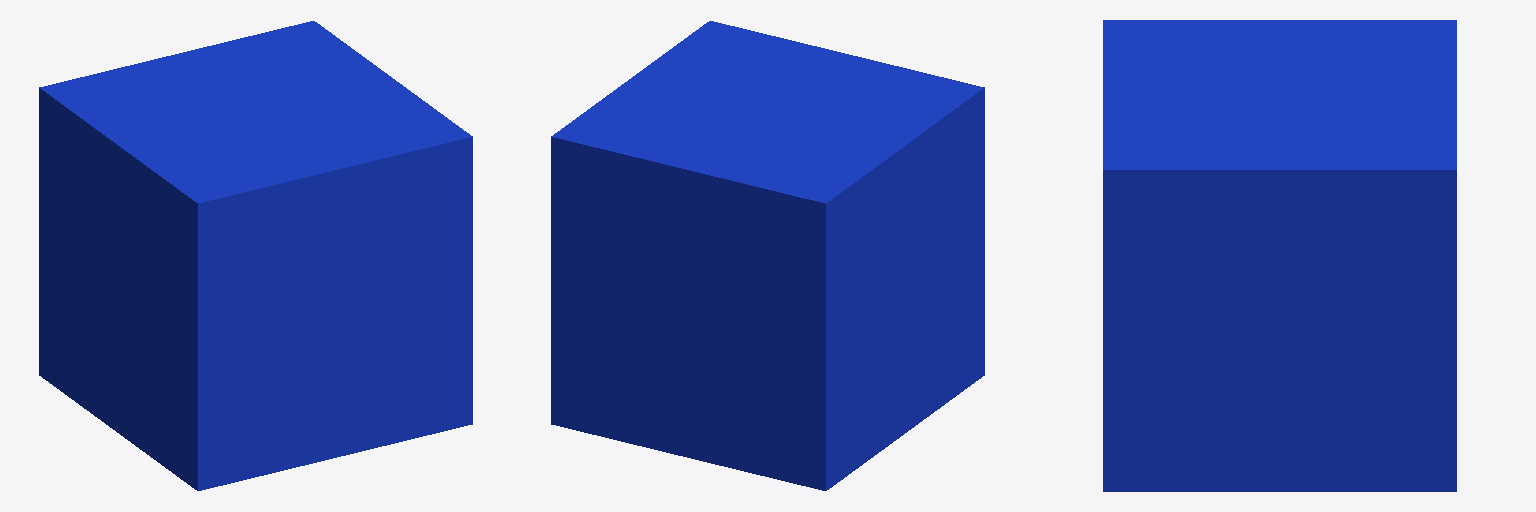
The robot description file, URDF, robot "block_blue":
<?xml version="1.0"?>
<robot name="block_blue">
  <link name="base_link">
    <inertial>
      <origin xyz="0 0 0.020000" rpy="0 0 0"/>
      <mass value="0.05"/>
      <inertia ixx="0.00001333" ixy="0" ixz="0" iyy="0.00001333" iyz="0" izz="0.00001333"/>
    </inertial>
    <visual>
      <origin xyz="0 0 0.020000" rpy="0 0 0"/>
      <geometry><box size="0.04 0.04 0.04"/></geometry>
      <material name="block_blue_mat">
        <color rgba="0.15 0.3 0.85 1.0"/>
      </material>
    </visual>
    <collision>
      <origin xyz="0 0 0.020000" rpy="0 0 0"/>
      <geometry><box size="0.04 0.04 0.04"/></geometry>
    </collision>
  </link>
</robot>

--- Facts derived from the render (not from the file) ---
Views: 3 orthographic renders of the robot side by side, from view 1: azimuth 30°, elevation 25°; view 2: azimuth 150°, elevation 25°; view 3: azimuth 270°, elevation 25°.
Model block_blue with 1 links and 0 joints (none), rooted at base_link, posed every joint at zero.
Links seen in each view (by area): view 1: base_link; view 2: base_link; view 3: base_link.
Boxes of the visible links, x1=… form: base_link: x1=39, y1=21, x2=472, y2=490; base_link: x1=551, y1=21, x2=984, y2=490; base_link: x1=1103, y1=20, x2=1456, y2=491.
Size in the robot's own frame: 0.04 by 0.04 by 0.04 metres.
Geometry: primitives only (box / cylinder / sphere), no mesh files.
